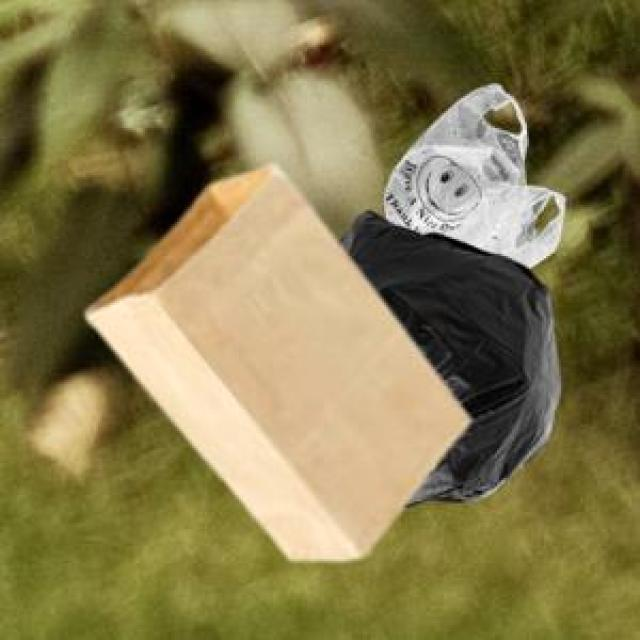miscellaneous trash: (335, 207, 557, 504)
paper: (83, 162, 465, 555)
